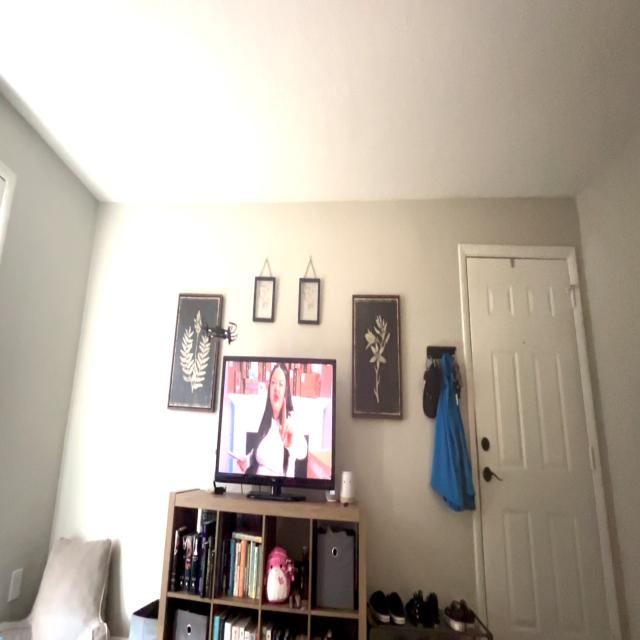drone: (190, 314, 244, 356)
